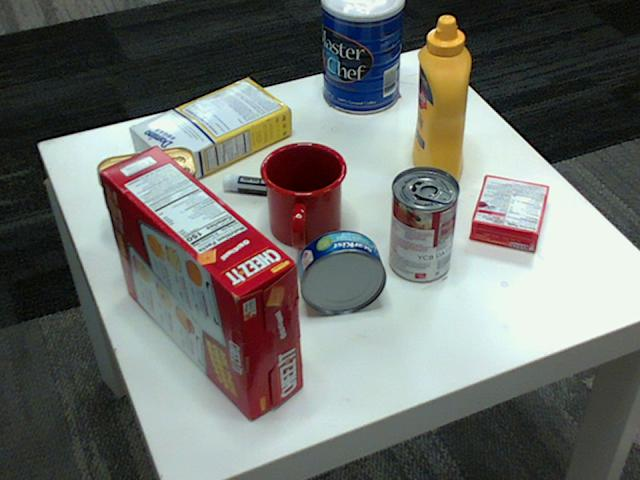cracker_box: (97, 145, 303, 418)
gelatin_box: (471, 175, 549, 251)
large_marker: (221, 177, 325, 199)
master_chef_can: (320, 0, 402, 113)
mug: (260, 139, 348, 247)
mustard_bottle: (412, 16, 470, 184)
potted_meat_can: (97, 146, 202, 246)
sugar_box: (130, 76, 292, 186)
tomato_soup_can: (389, 166, 458, 281)
tuna_fish_can: (298, 230, 387, 313)
